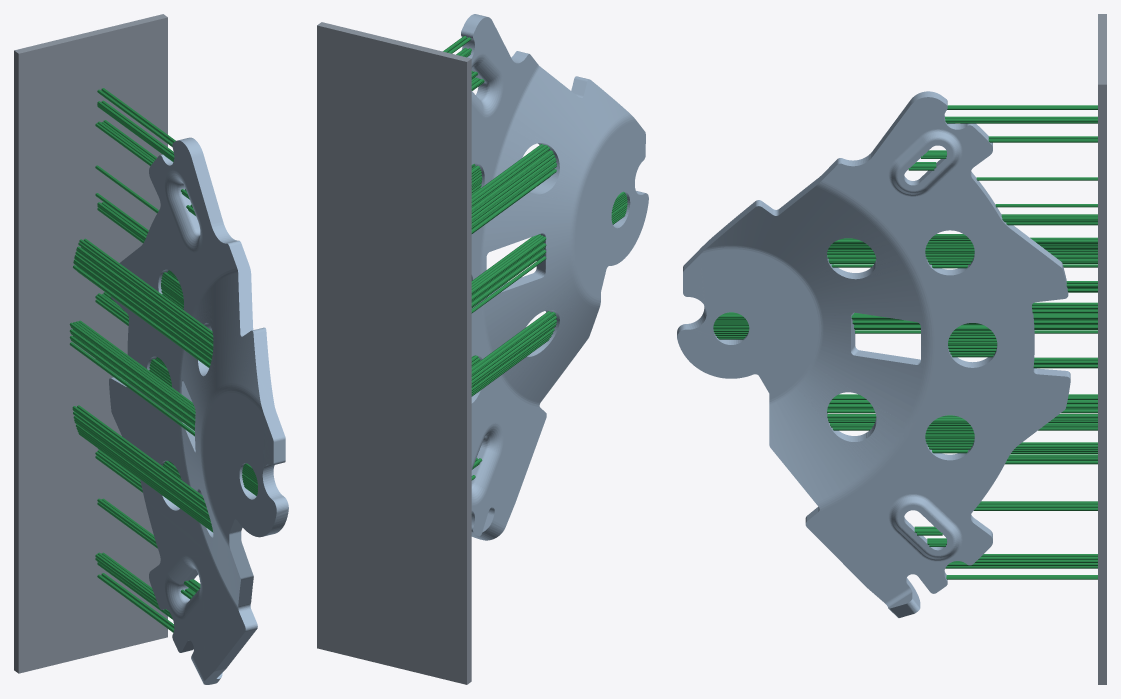
The model's file is 02_original_pose_our_support.obj.
3 renders of one model, left to right at view 1: azimuth 30°, elevation 25°; view 2: azimuth 150°, elevation 25°; view 3: azimuth 270°, elevation 25°, orthographic. The views are drawn at different scales.
Parts seen in each view (by area): view 1: BuildPlate, Part, SimplifiedSupportColumns; view 2: BuildPlate, Part, SimplifiedSupportColumns; view 3: Part, SimplifiedSupportColumns, BuildPlate.
Boxes of the visible parts, x1,y1,x2,y2 form: BuildPlate: [14, 14, 167, 673]; Part: [109, 137, 288, 684]; SimplifiedSupportColumns: [69, 88, 257, 632]; BuildPlate: [317, 22, 471, 684]; Part: [461, 14, 648, 540]; SimplifiedSupportColumns: [443, 36, 627, 480]; Part: [677, 91, 1070, 617]; SimplifiedSupportColumns: [713, 105, 1097, 579]; BuildPlate: [1098, 14, 1106, 684].
Size of the model in its own units: 37.01 by 147 by 95.25.
